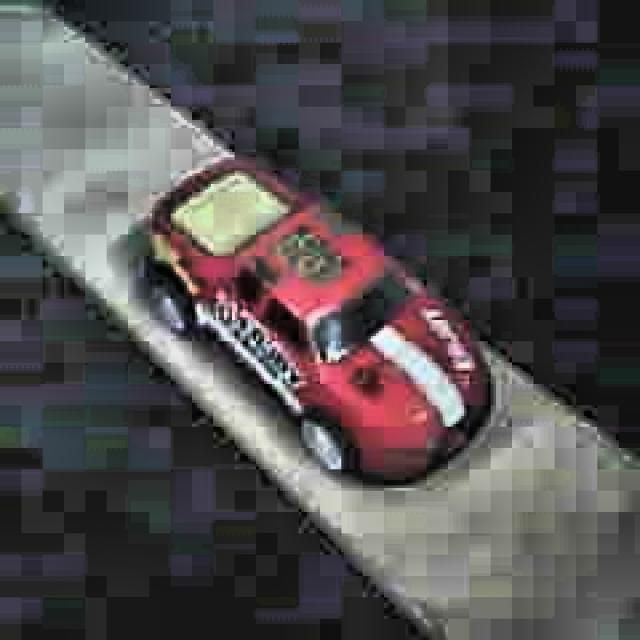car: (142, 152, 497, 494)
